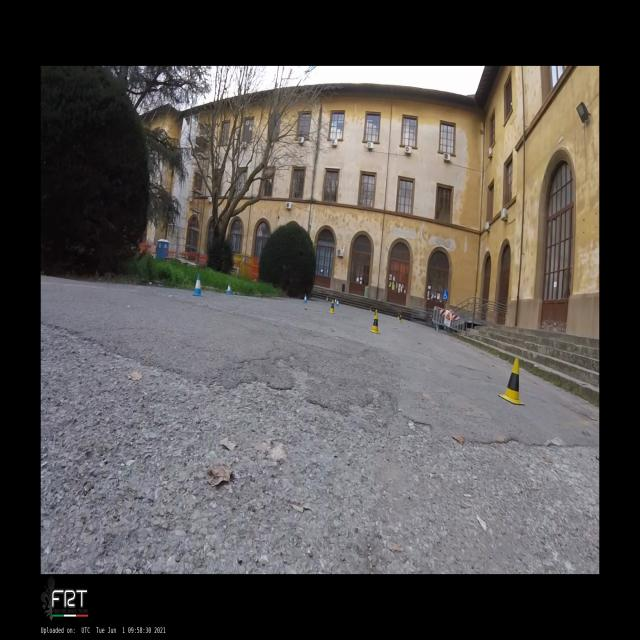blue_cone: (192, 274, 204, 296), (225, 283, 233, 295), (303, 294, 307, 304), (336, 299, 339, 307)
yellow_cone: (498, 358, 525, 406), (369, 314, 381, 334), (329, 299, 335, 314), (372, 309, 378, 319), (398, 315, 402, 323), (398, 313, 400, 318)
